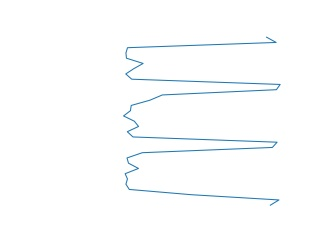majorRiverChannelBar: (120, 37, 285, 206)
